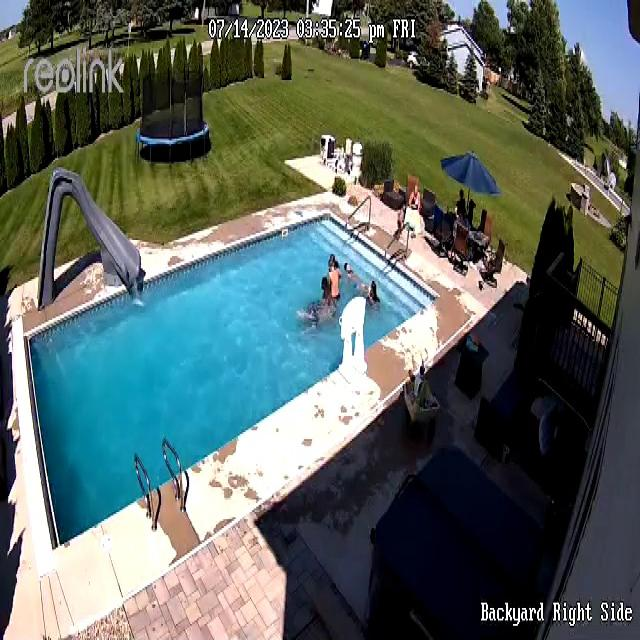adult: (328, 264, 341, 300), (408, 182, 420, 220)
